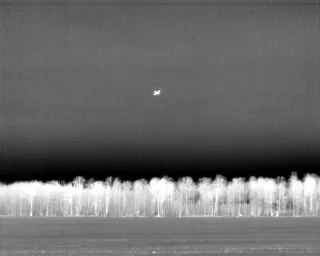DRONE: (150, 85, 166, 100)
